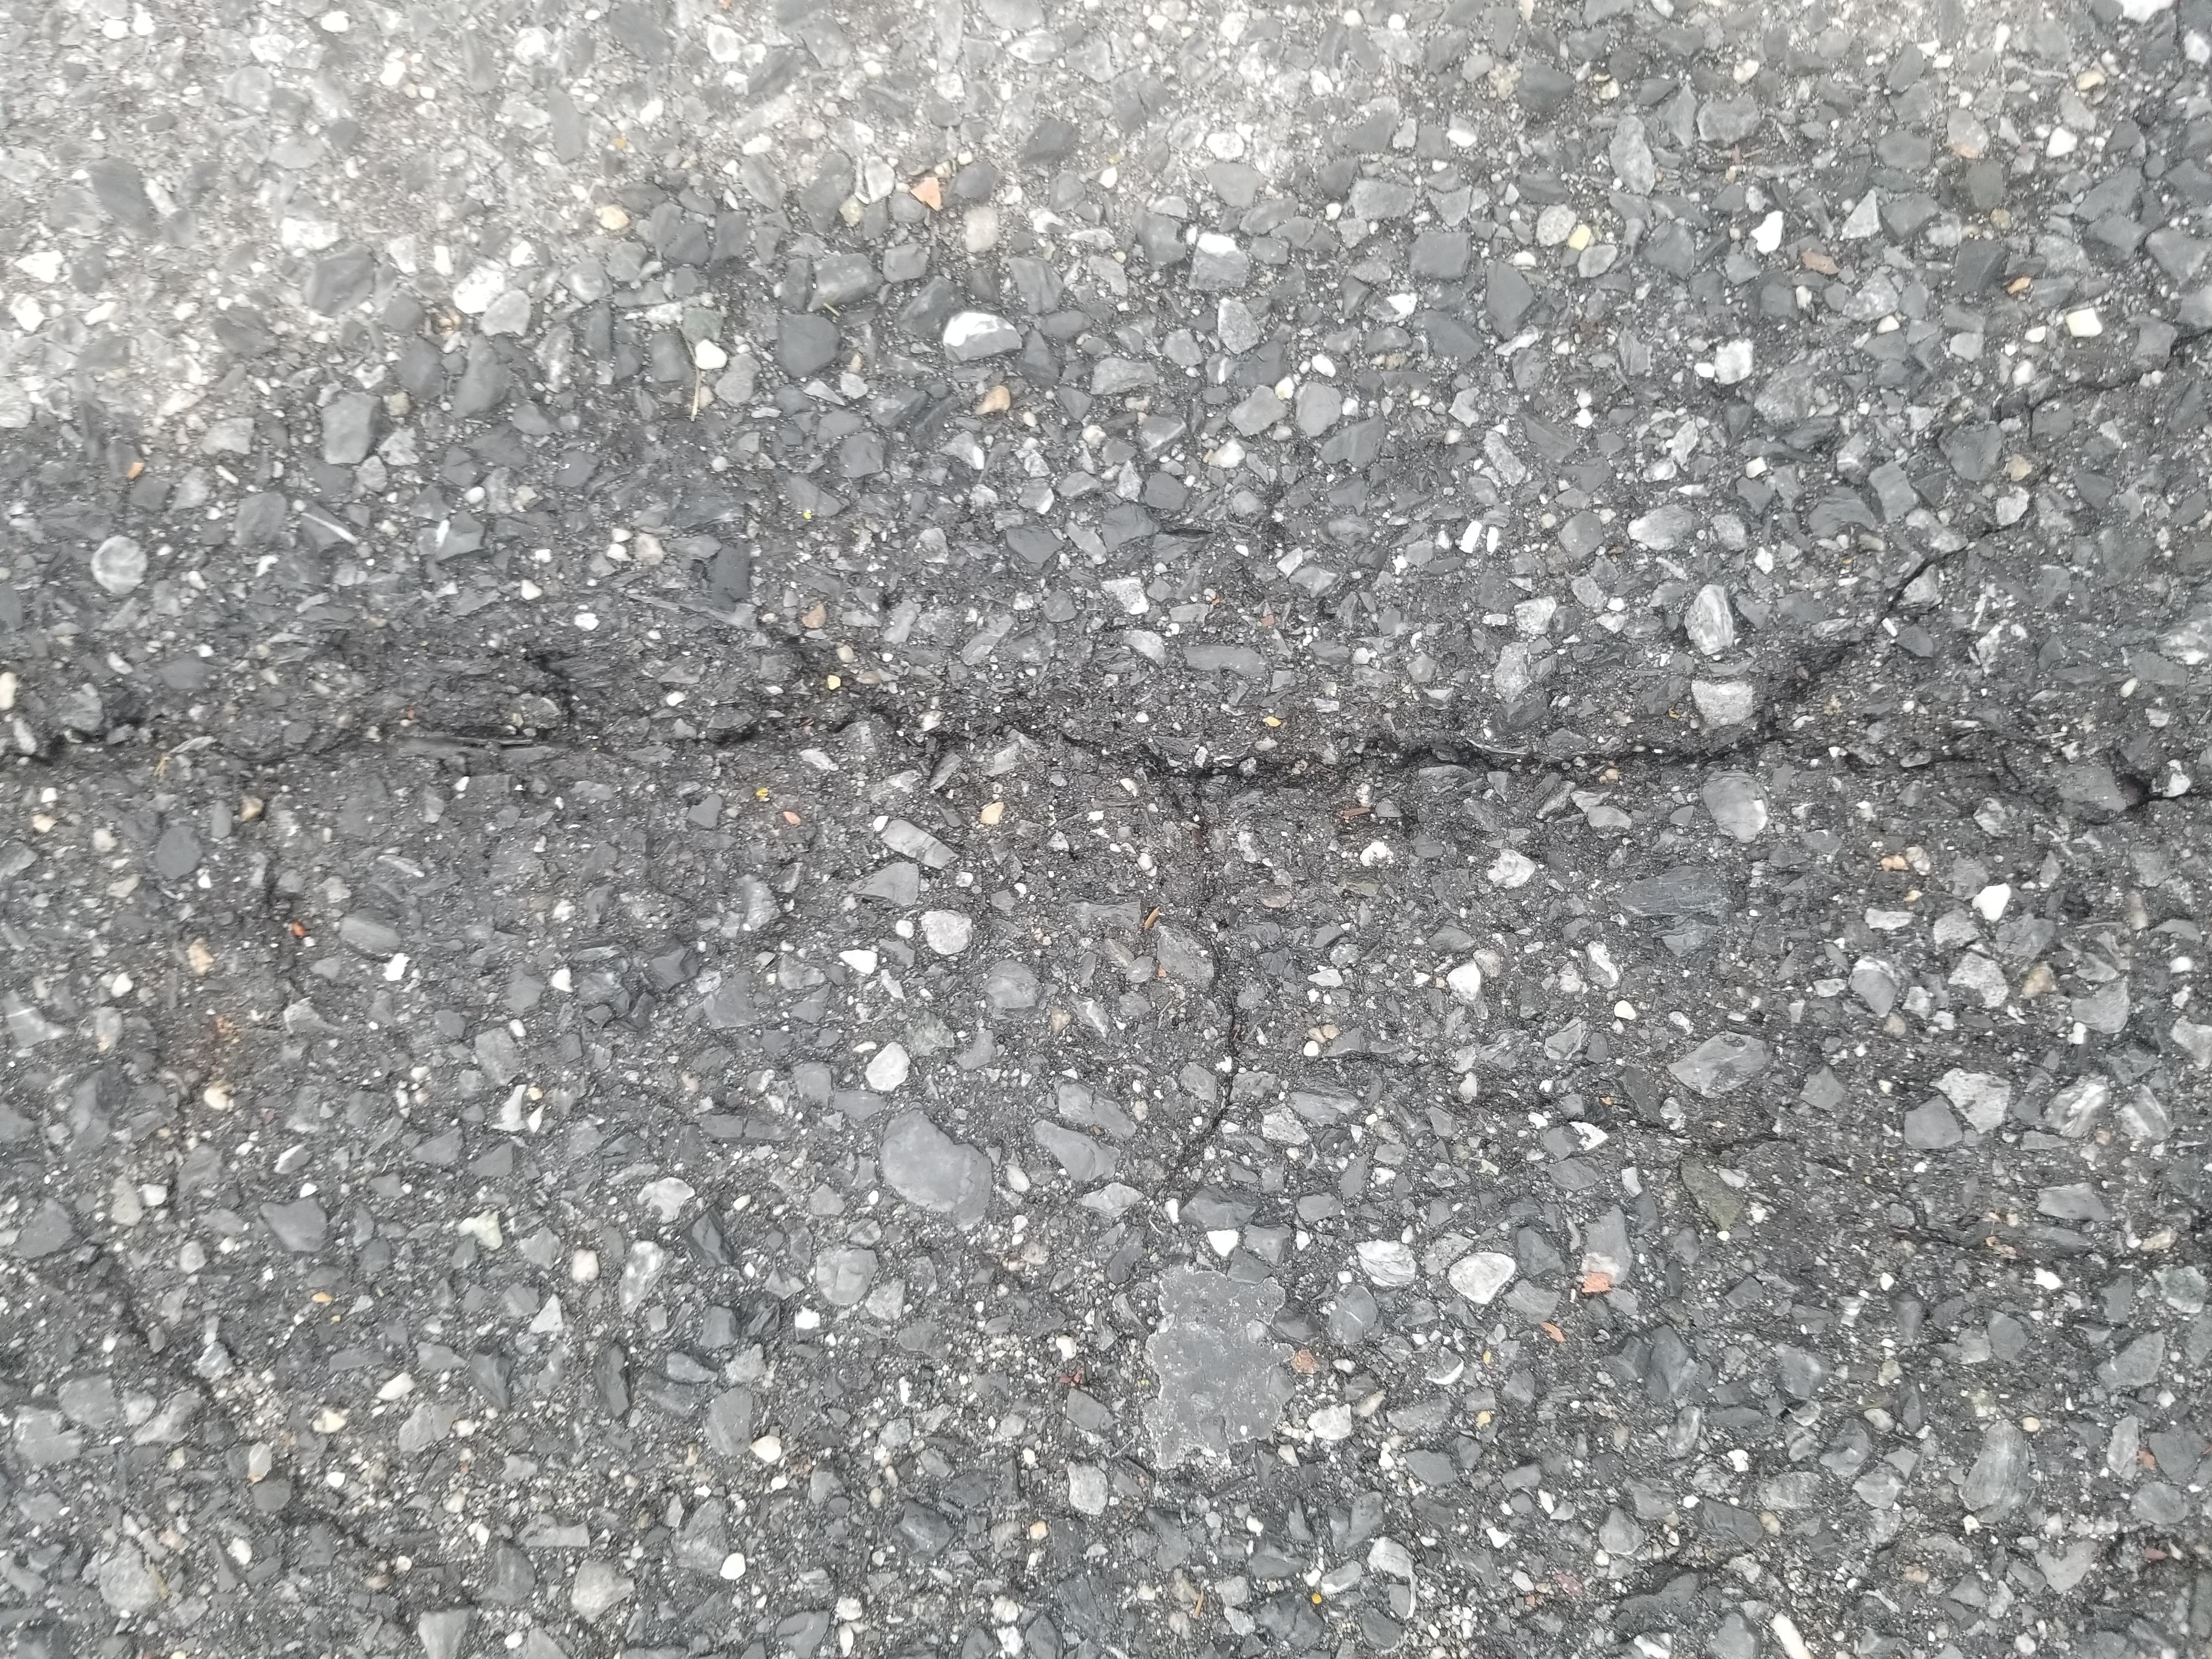crack: (759, 5, 1179, 1659)
